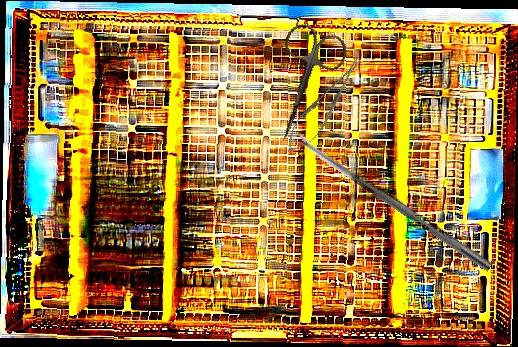Iris Scissors: (252, 19, 353, 152)
Needle Holder: (277, 52, 370, 162)
Surgical Spoon: (290, 129, 494, 272)
